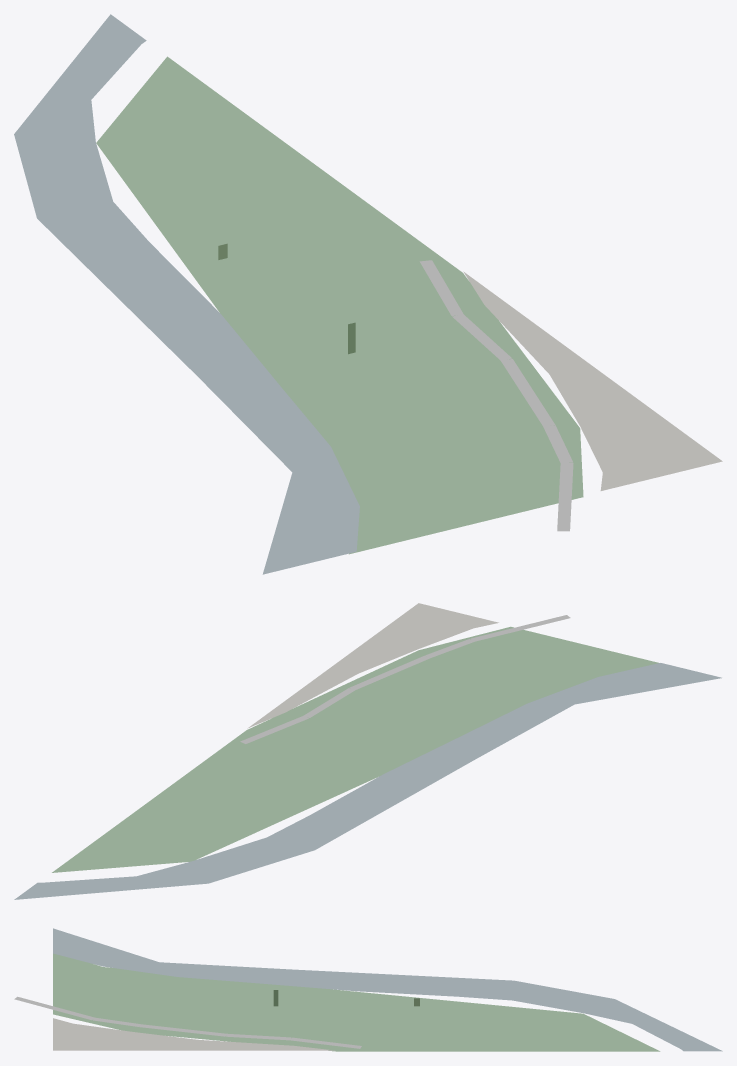
3 views of the same model, one above another, from view 1: azimuth 30°, elevation 25°; view 2: azimuth 150°, elevation 25°; view 3: azimuth 270°, elevation 25° (orthographic). The views are drawn at different scales.
Size of the model in its own units: 124 by 8.04 by 302.
